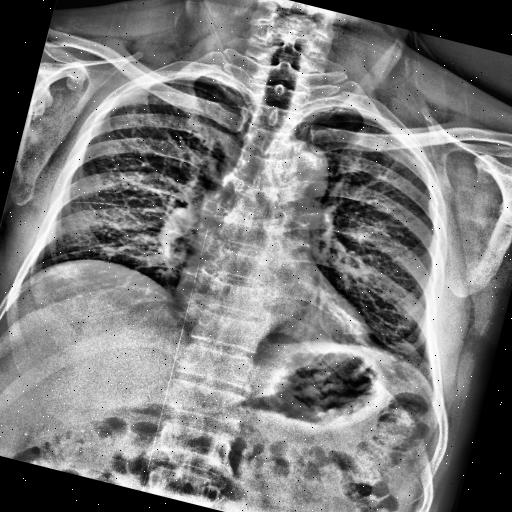0- Aortic enlargement: (256, 130, 338, 202), (273, 134, 337, 202), (276, 137, 334, 195)
11- Pleural thickening: (163, 64, 245, 100), (314, 98, 388, 126)
